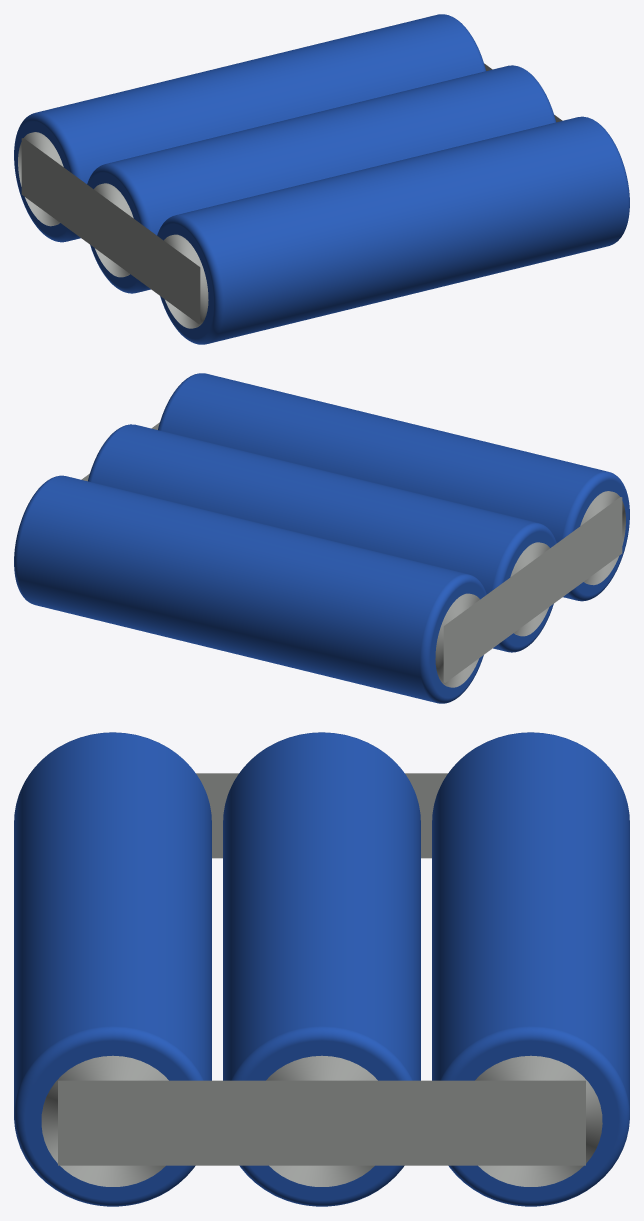
The model's file is battery_3s.obj.
The picture shows the model from 3 angles, top to bottom: view 1: azimuth 30°, elevation 25°; view 2: azimuth 150°, elevation 25°; view 3: azimuth 270°, elevation 25°; orthographic projection. The views are drawn at different scales.
Parts seen in each view (by area): view 1: cell, cell_3, cell_2, strip, cap, cap_5, cap_3; view 2: cell_3, cell, cell_2, strip, cap_5, cap, cap_3; view 3: cell, cell_3, cell_2, strip_2, cap_2, cap_6, cap_4, strip.
Part boxes in pixels (box(x1,y1,x2,y2)): cell: box(157, 116, 629, 344); cell_3: box(14, 14, 485, 242); cell_2: box(87, 65, 555, 293); strip: box(21, 138, 200, 323); cap: box(164, 234, 208, 328); cap_5: box(18, 132, 63, 226); cap_3: box(94, 183, 133, 277); cell_3: box(14, 475, 486, 703); cell: box(158, 373, 629, 601); cell_2: box(88, 424, 556, 652); strip: box(443, 497, 622, 682); cap_5: box(435, 593, 479, 687); cap: box(580, 491, 625, 585); cap_3: box(510, 542, 549, 636); cell: box(14, 732, 211, 1206); cell_3: box(432, 732, 629, 1206); cell_2: box(223, 732, 420, 1206); strip_2: box(58, 1080, 585, 1165); cap_2: box(41, 1055, 168, 1186); cap_6: box(475, 1055, 602, 1186); cap_4: box(266, 1055, 377, 1186); strip: box(196, 773, 447, 858).
Size of the model in its own units: 0.0664 by 0.018 by 0.056.
